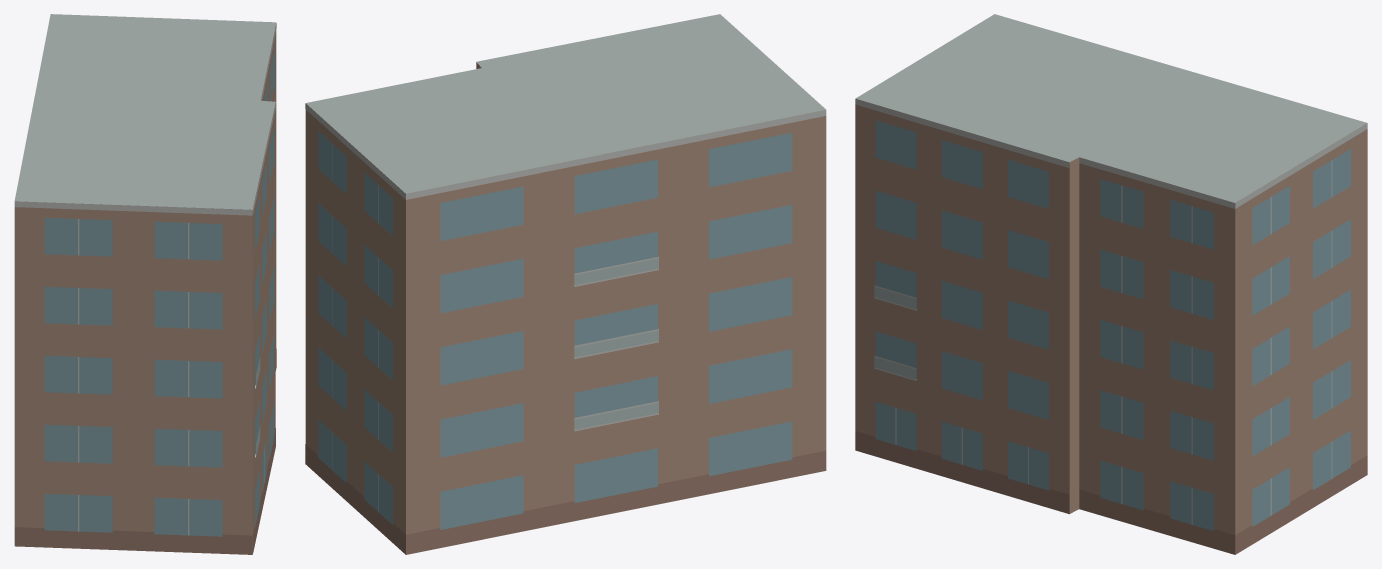
File: survey-upis-32701187.glb
The picture shows the model from 3 angles, left to right: view 1: azimuth 30°, elevation 25°; view 2: azimuth 150°, elevation 25°; view 3: azimuth 270°, elevation 25°; orthographic projection. The views are drawn at different scales.
Visible parts, largest first — view 1: survey-upis-32701187.tmp; view 2: survey-upis-32701187.tmp; view 3: survey-upis-32701187.tmp.
Boxes of the visible parts, x1,y1,x2,y2 form: survey-upis-32701187.tmp: [14, 14, 276, 554]; survey-upis-32701187.tmp: [305, 14, 826, 554]; survey-upis-32701187.tmp: [855, 14, 1367, 554].
Bounding box in the file's own units: 16.71 × 14.5 × 19.14.
